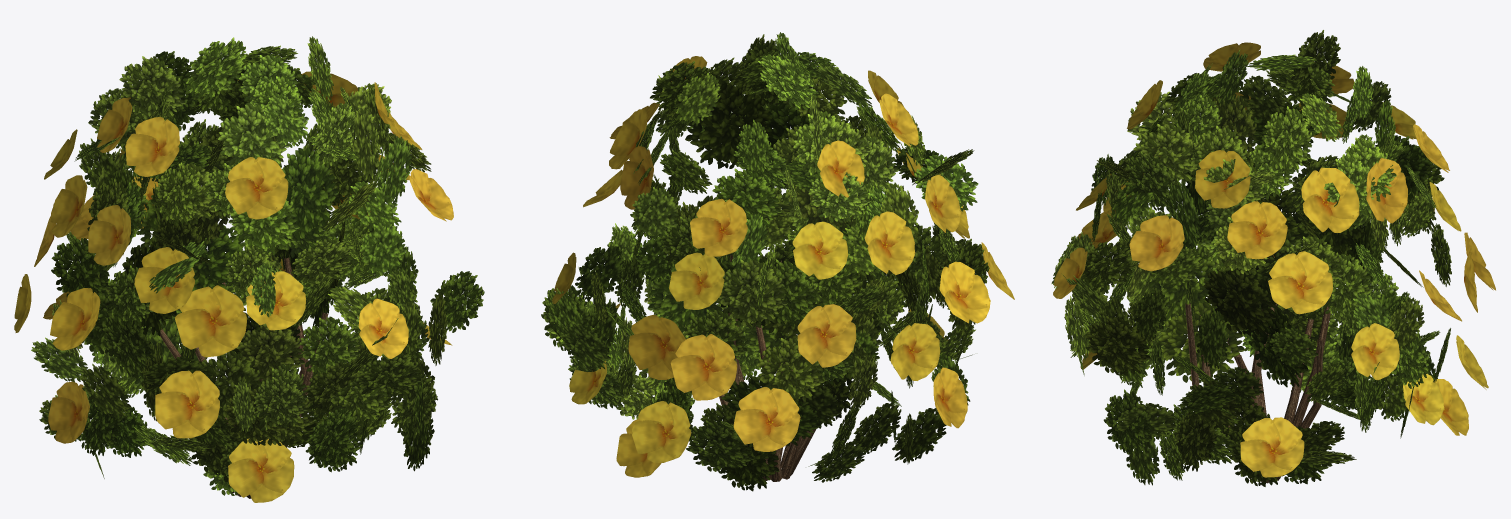
The model's file is mm8_deco_plant33.glb.
3 views of the same model, side by side, from view 1: azimuth 30°, elevation 25°; view 2: azimuth 150°, elevation 25°; view 3: azimuth 270°, elevation 25° (orthographic). The views are drawn at different scales.
Parts seen in each view (by area): view 1: Plant; view 2: Plant; view 3: Plant.
Boxes of the visible parts, <box> form: Plant: <box>14,36,484,502</box>; Plant: <box>541,32,1014,491</box>; Plant: <box>1051,30,1495,486</box>.
Bounding box in the file's own units: 1.58 × 1.64 × 1.55.
2 materials, 2 textured.
